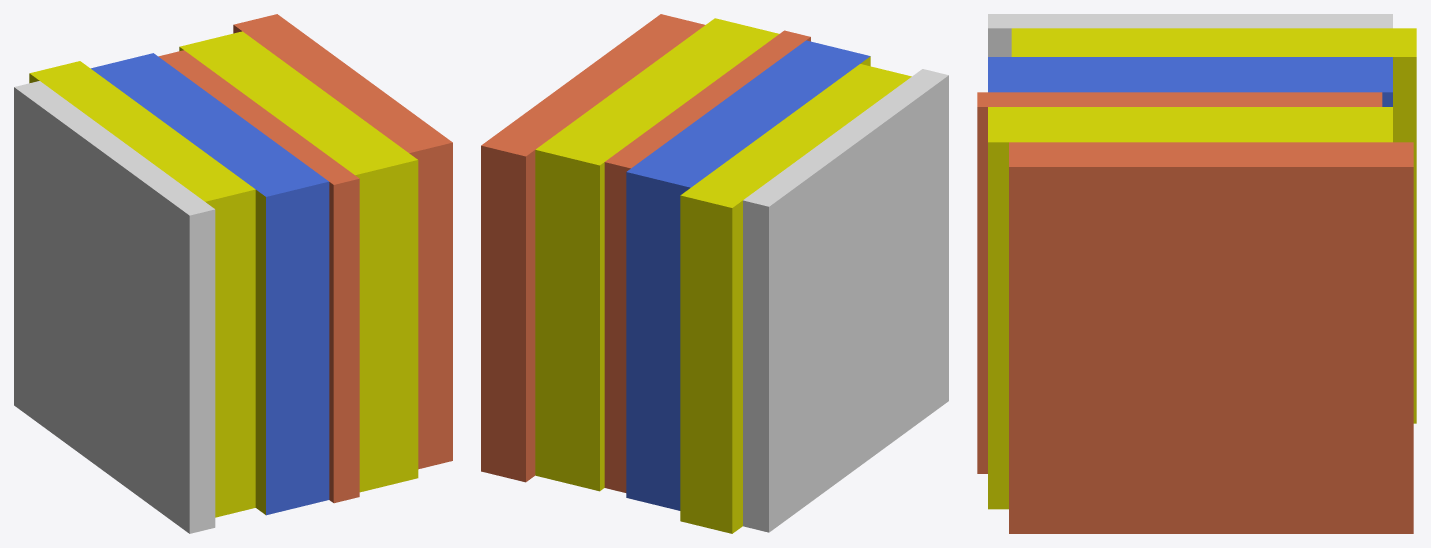
File: Books.fbx
3 views of the same model, side by side, from view 1: azimuth 30°, elevation 25°; view 2: azimuth 150°, elevation 25°; view 3: azimuth 270°, elevation 25° (orthographic). The views are drawn at different scales.
Visible parts, largest first — view 1: Books; view 2: Books; view 3: Books.
Boxes of the visible parts, bbox=[...] form: Books: bbox=[14, 14, 452, 533]; Books: bbox=[481, 14, 948, 533]; Books: bbox=[977, 14, 1416, 533].
Bounding box in the file's own units: 48.64 × 54.32 × 58.93.
